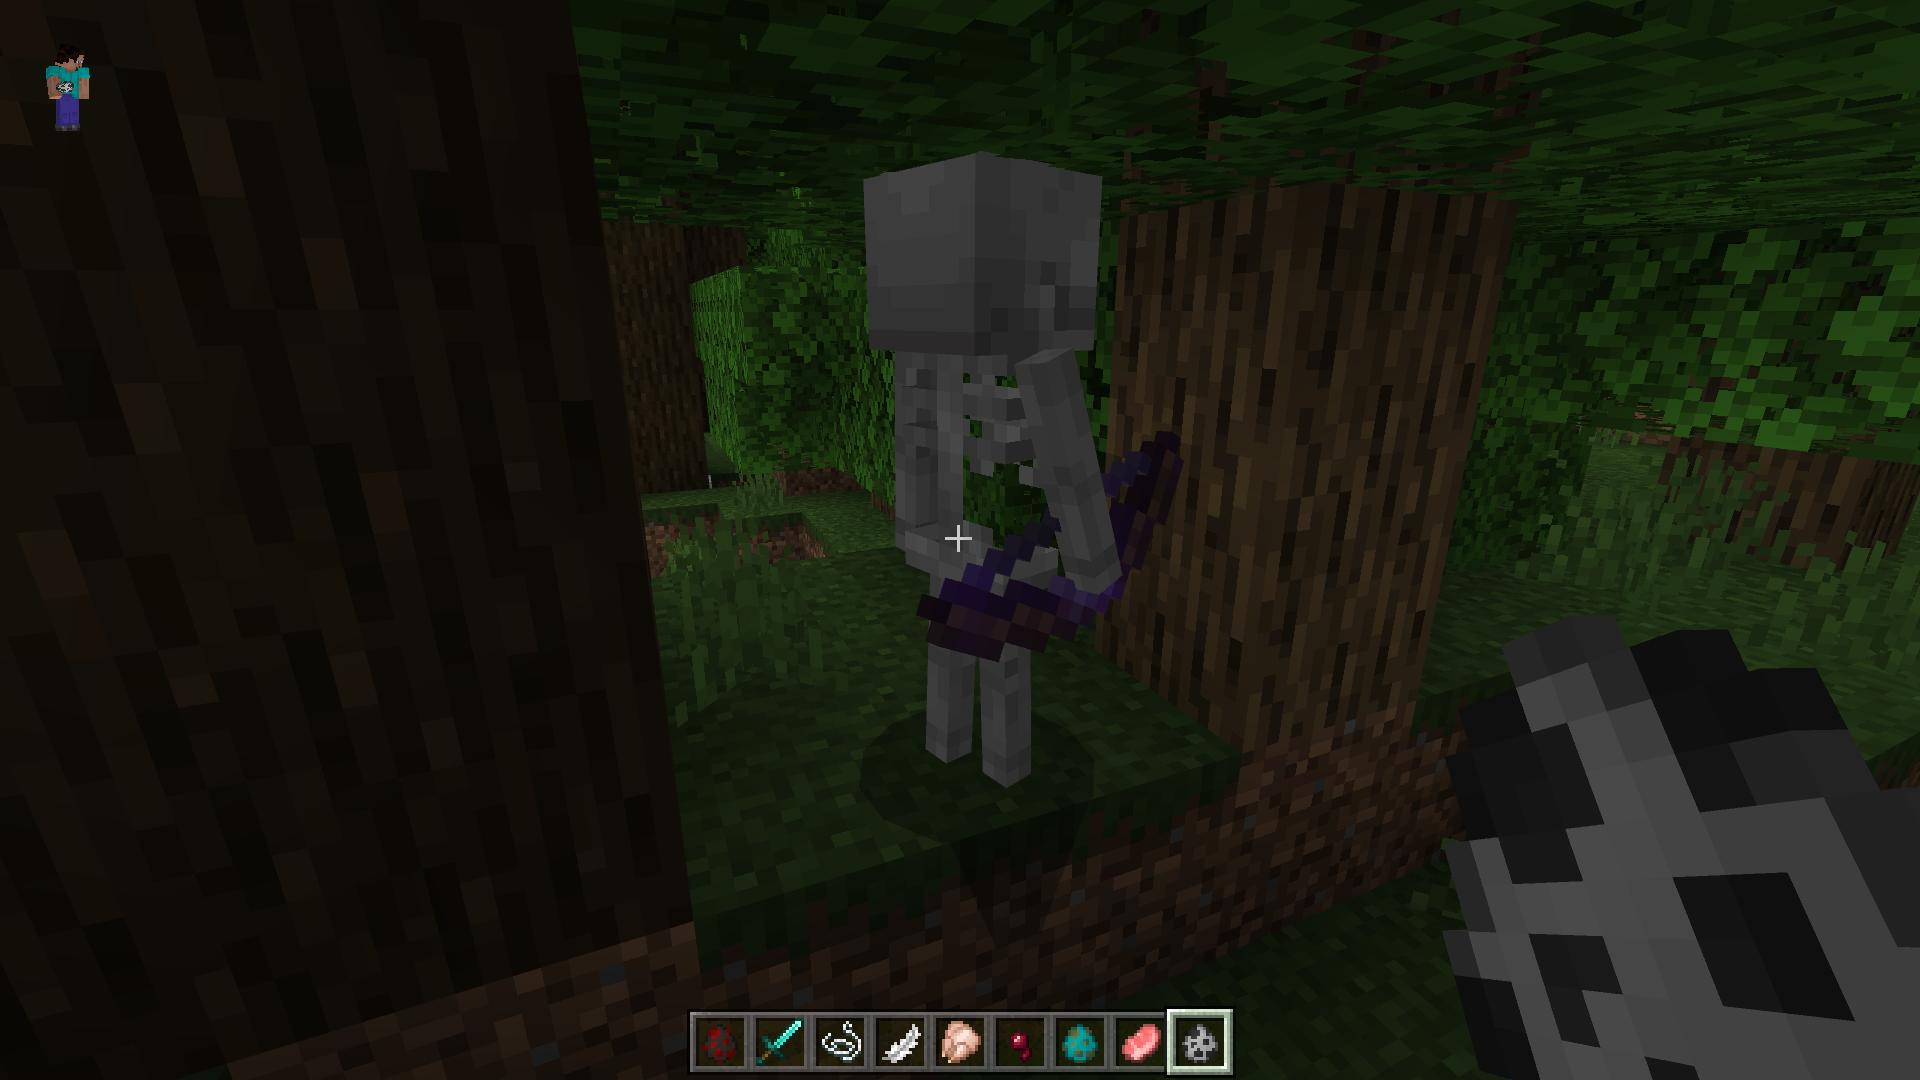skeleton: (857, 145, 1185, 787)
